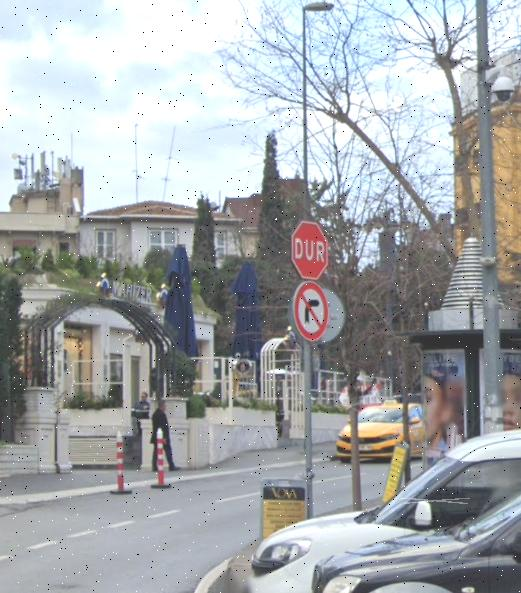rightturnsareforbidden: (291, 281, 333, 341)
stop: (290, 218, 331, 278)
